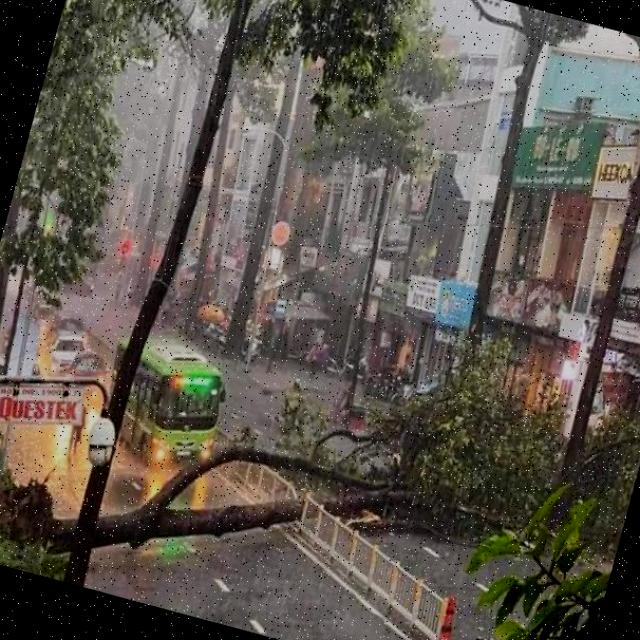fallen_object: (0, 295, 546, 640)
